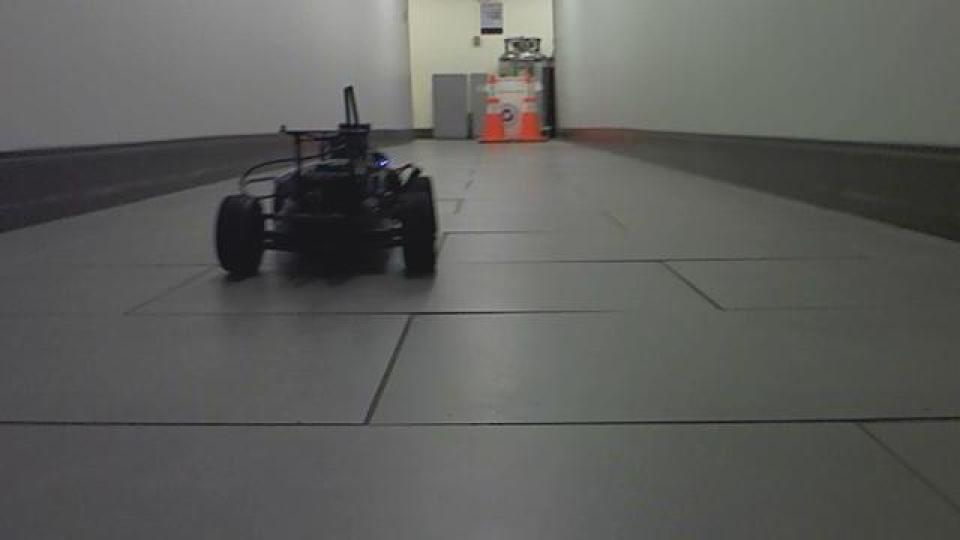car: (210, 82, 442, 284)
